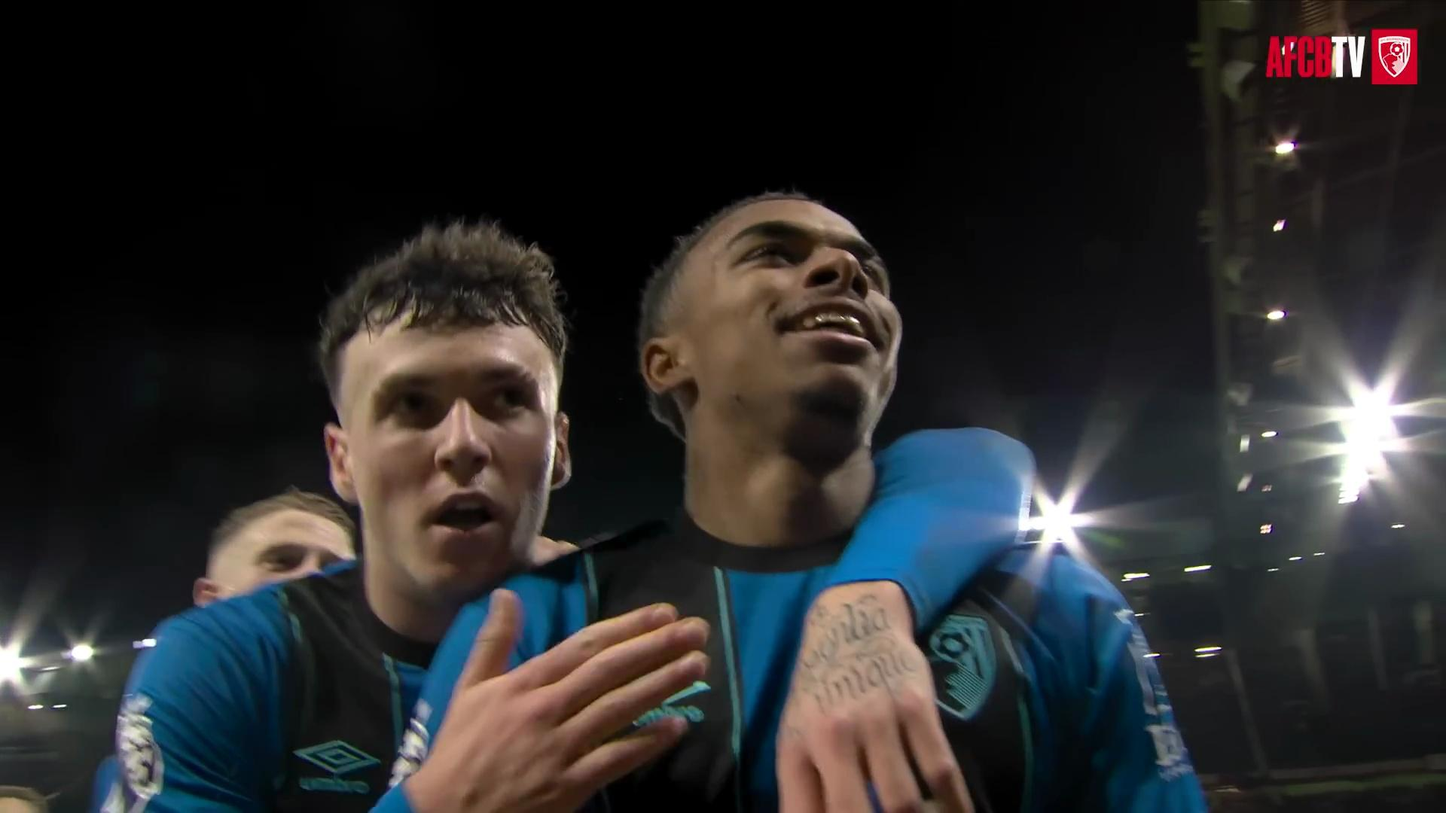player: (380, 196, 1204, 812), (117, 224, 569, 812), (193, 489, 355, 606), (0, 786, 48, 812)
